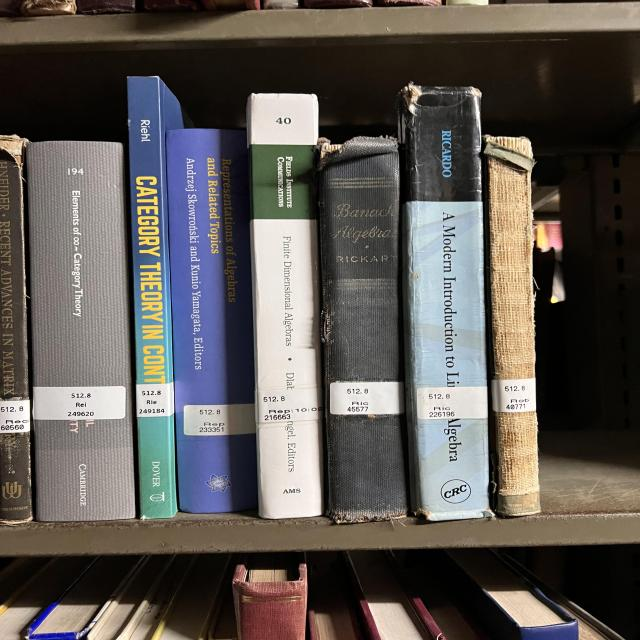Book: (398, 84, 493, 521), (27, 141, 135, 521), (165, 129, 257, 512), (318, 136, 408, 524), (247, 94, 323, 519), (127, 76, 183, 519), (485, 135, 540, 516), (0, 138, 33, 524)
Label: (33, 386, 127, 420), (330, 381, 403, 415), (417, 386, 488, 420), (183, 404, 255, 436), (257, 388, 322, 422), (492, 378, 537, 412), (137, 382, 173, 418), (0, 400, 30, 434)
